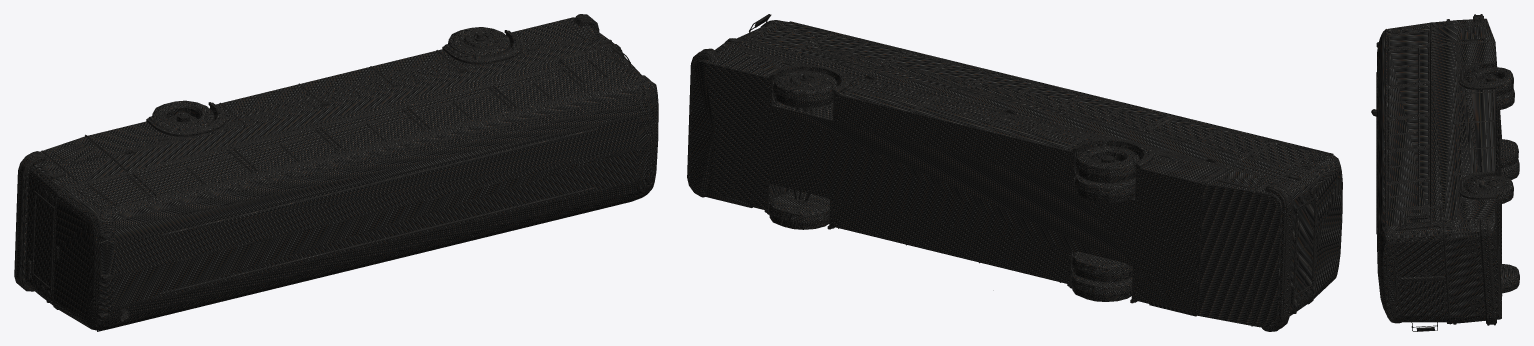
Rendered from Neoflycrashedcar1.gltf.
The picture shows the model from 3 angles, left to right: view 1: azimuth 30°, elevation 25°; view 2: azimuth 150°, elevation 25°; view 3: azimuth 270°, elevation 25°; orthographic projection. The views are drawn at different scales.
Visible parts, largest first — view 1: smdimport; view 2: smdimport; view 3: smdimport.
Part boxes in pixels (left/top/right/bottom): smdimport: left=14, top=14, right=658, bottom=331; smdimport: left=687, top=14, right=1342, bottom=331; smdimport: left=1371, top=14, right=1519, bottom=331.
Bounding box in the file's own units: 12.11 × 3.45 × 3.54.
